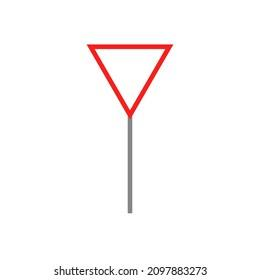Give Way: (84, 33, 180, 122)
